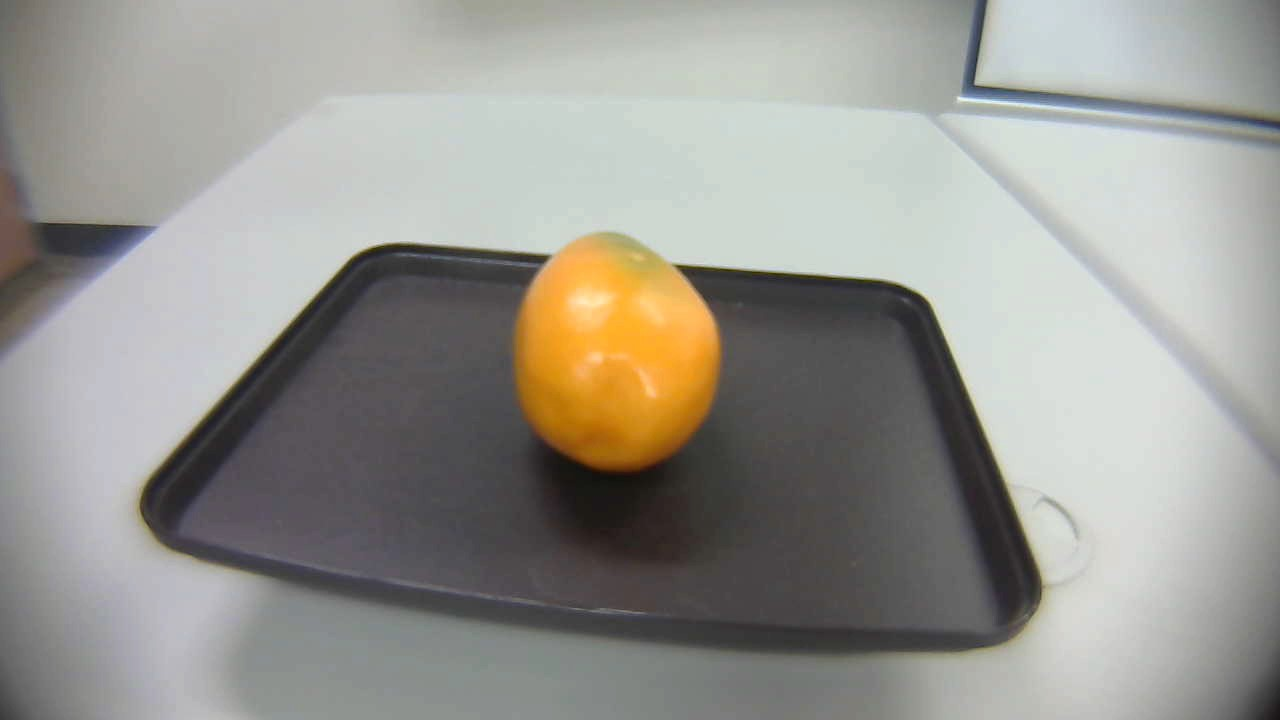papya: (504, 222, 736, 482)
